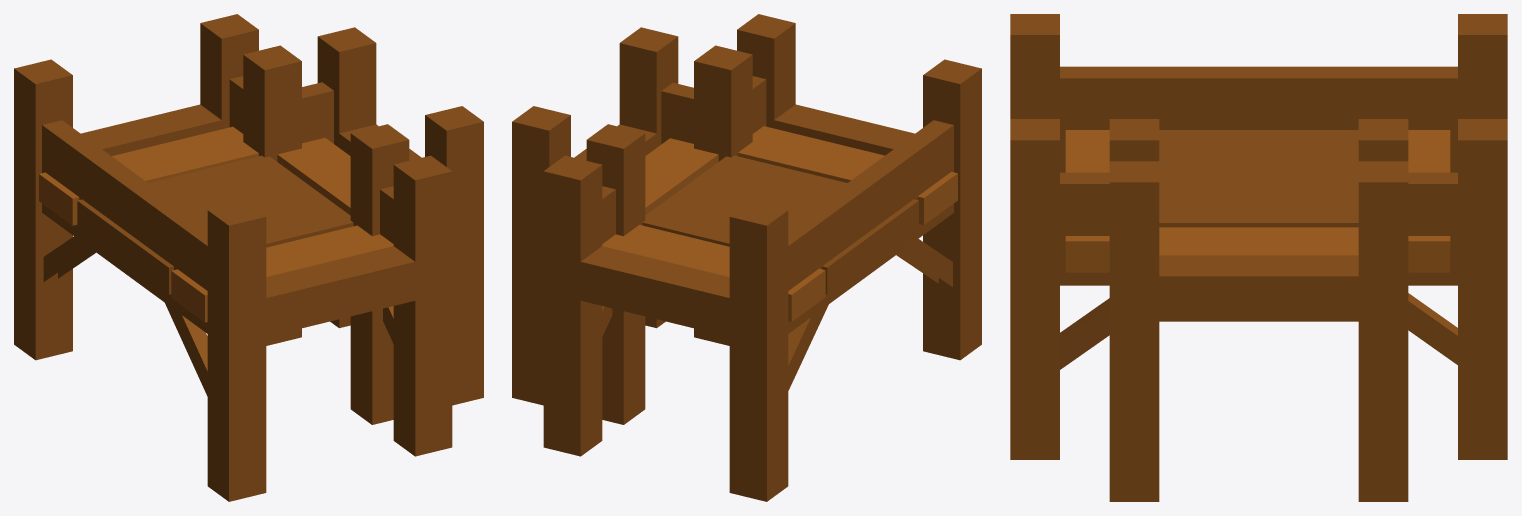
Rendered from bridge_tbone.fbx.
3 renders of one model, left to right at view 1: azimuth 30°, elevation 25°; view 2: azimuth 150°, elevation 25°; view 3: azimuth 270°, elevation 25°, orthographic. The views are drawn at different scales.
Parts seen in each view (by area): view 1: polySurface24; view 2: polySurface24; view 3: polySurface24.
Boxes of the visible parts, bbox=[...] form: polySurface24: bbox=[14, 14, 483, 501]; polySurface24: bbox=[512, 14, 981, 501]; polySurface24: bbox=[1010, 14, 1507, 501].
Size of the model in its own units: 80 by 70.89 by 100.
Materials: 1 (1 with a texture image).
